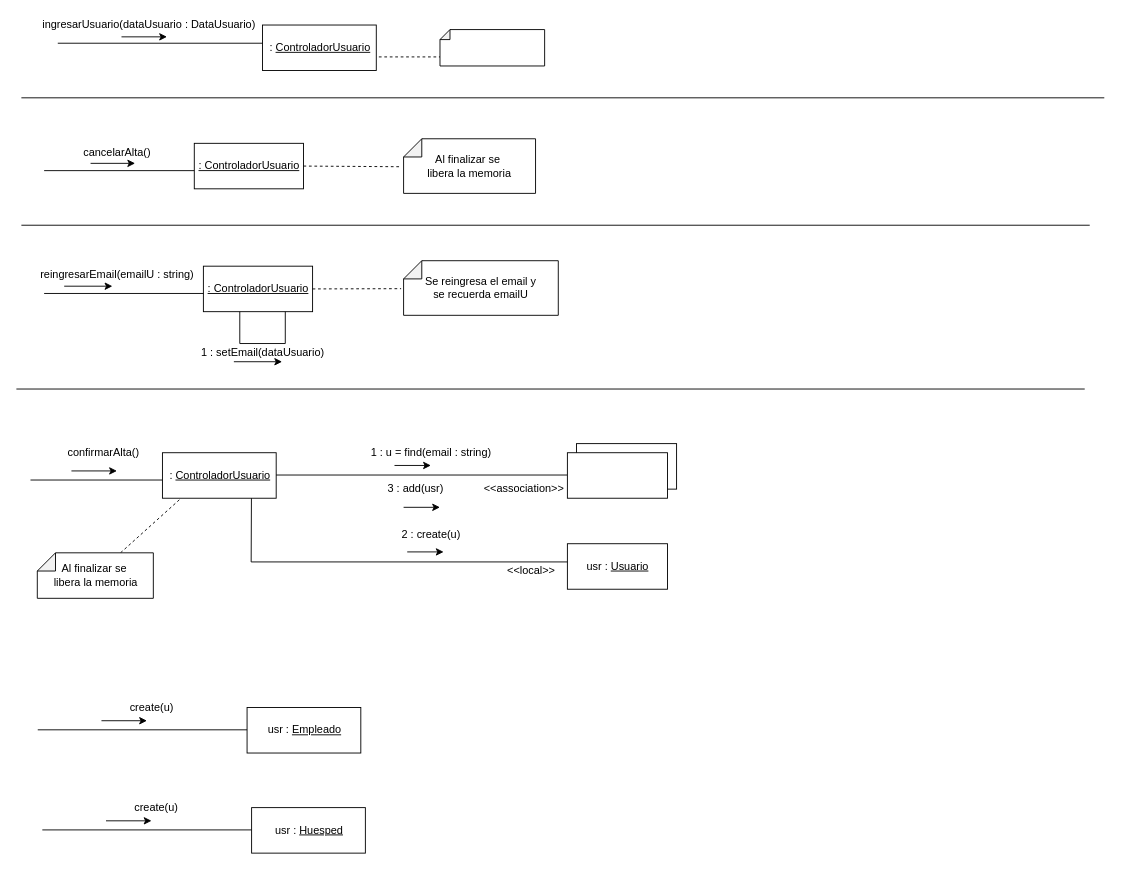
This 1121x869 diagram has some shape labels left out. The box of each missing label's shape, as (x1, y1, x2, y2) in pixels:
: Usuario: (566, 452, 667, 498)
Se recuerda dataUsuario: (439, 29, 545, 66)
